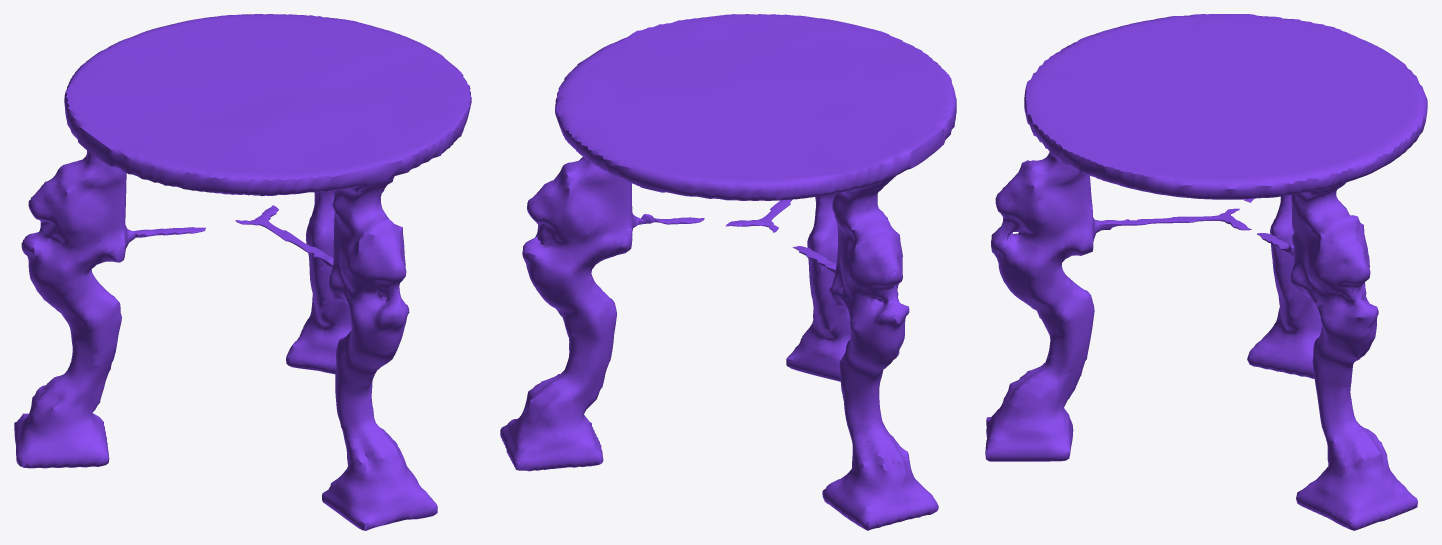
The picture shows the model from 3 angles, left to right: view 1: azimuth 30°, elevation 25°; view 2: azimuth 150°, elevation 25°; view 3: azimuth 270°, elevation 25°; orthographic projection.
Parts seen in each view (by area): view 1: split_parent_0; view 2: split_parent_0; view 3: split_parent_0.
Boxes of the visible parts, x1,y1,x2,y2 form: split_parent_0: [14, 14, 471, 530]; split_parent_0: [500, 14, 956, 530]; split_parent_0: [985, 14, 1427, 530].
Size of the model in its own units: 1 by 0.8089 by 0.9431.
